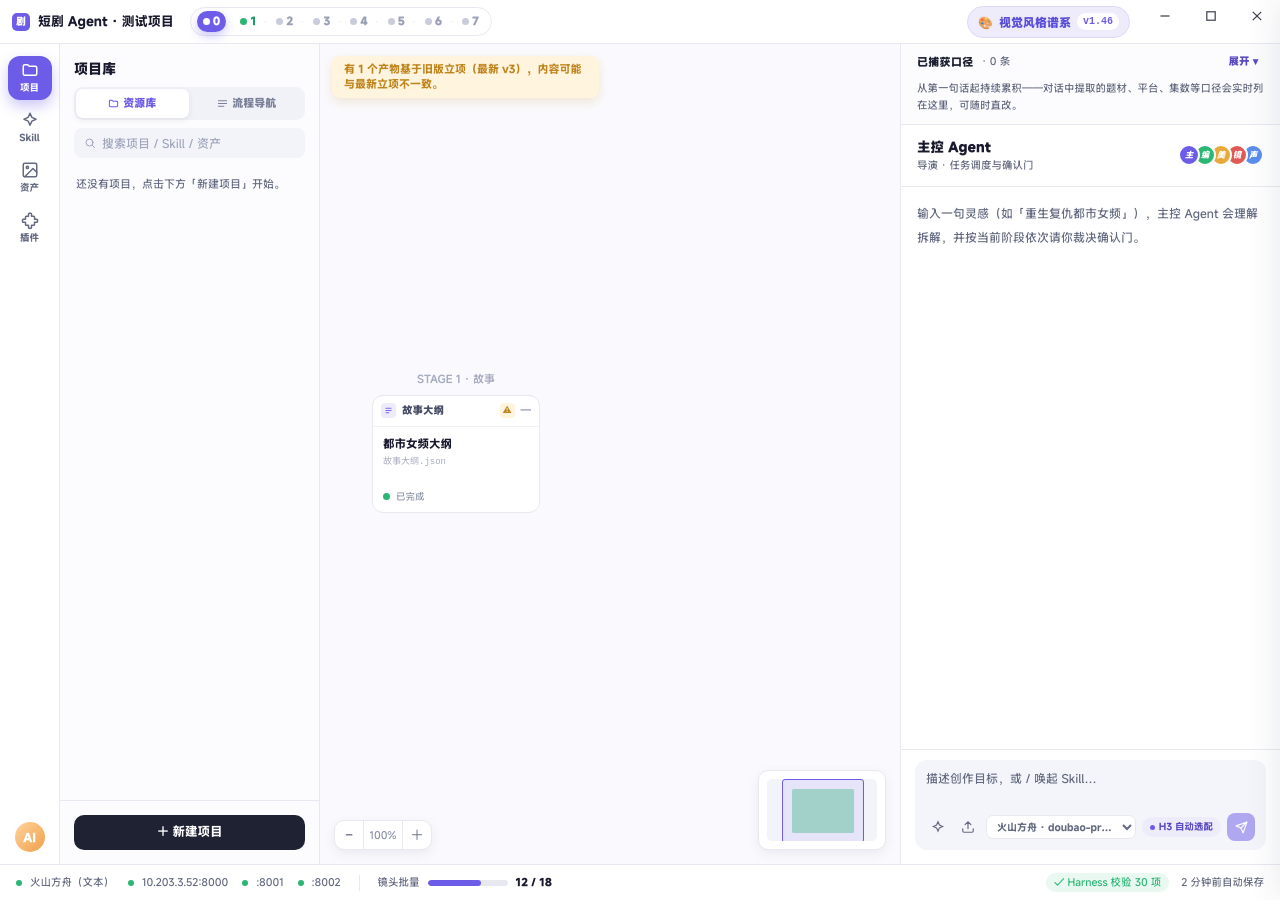
Test case: feature-011 · StudioApp 黄条回读重开面板（T-⑧） › 清单 JSON 损坏 → 降级提示，不崩溃
Expected: the text "都市女频大纲" is shown, [383,436,452,451]
Click the button "故事大纲 ⚠ — 都市女频大纲 故事大纲.json 已完成" at (456, 454), box [372,395,540,513]
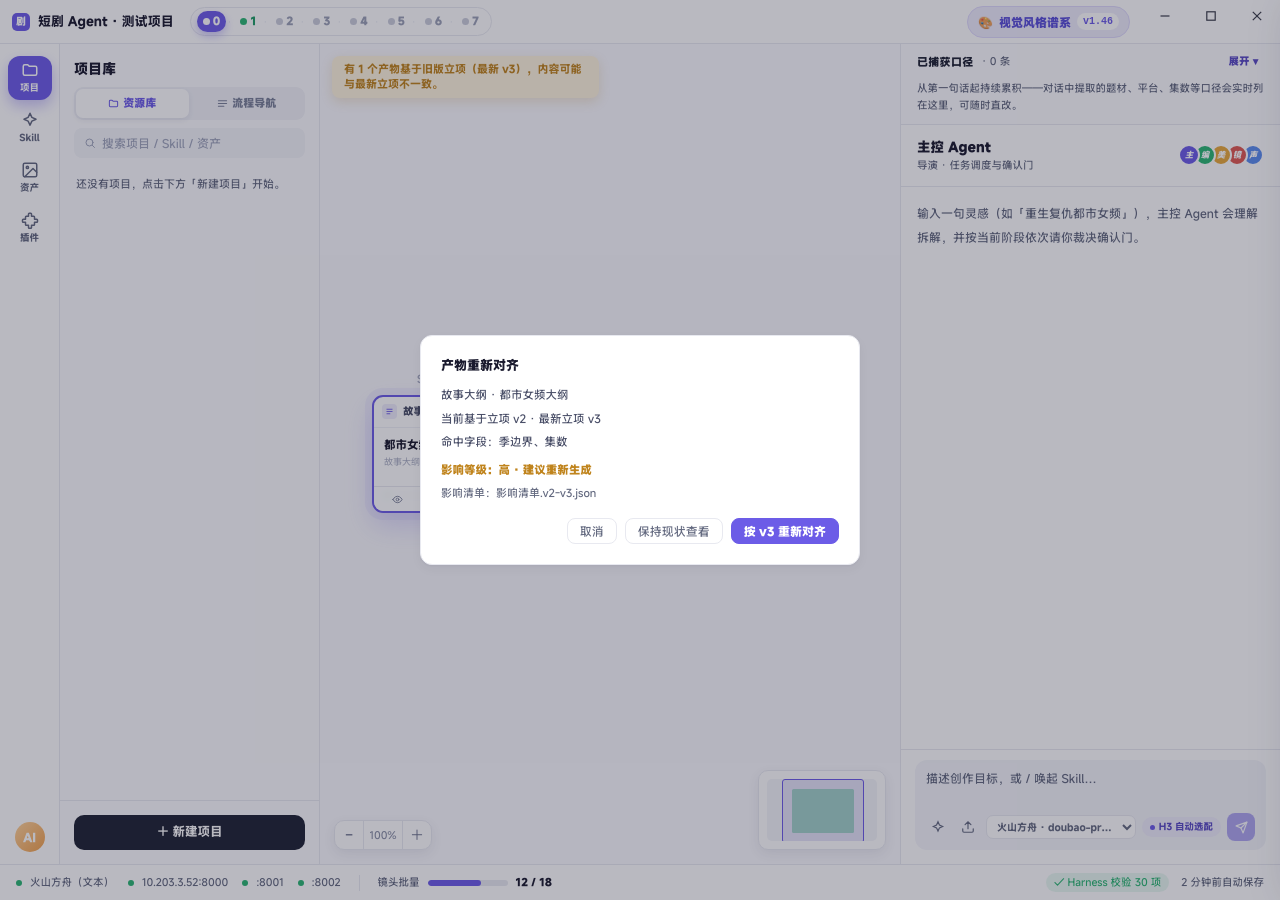
Click the button "保持现状查看" at (674, 531), box [625,518,723,544]
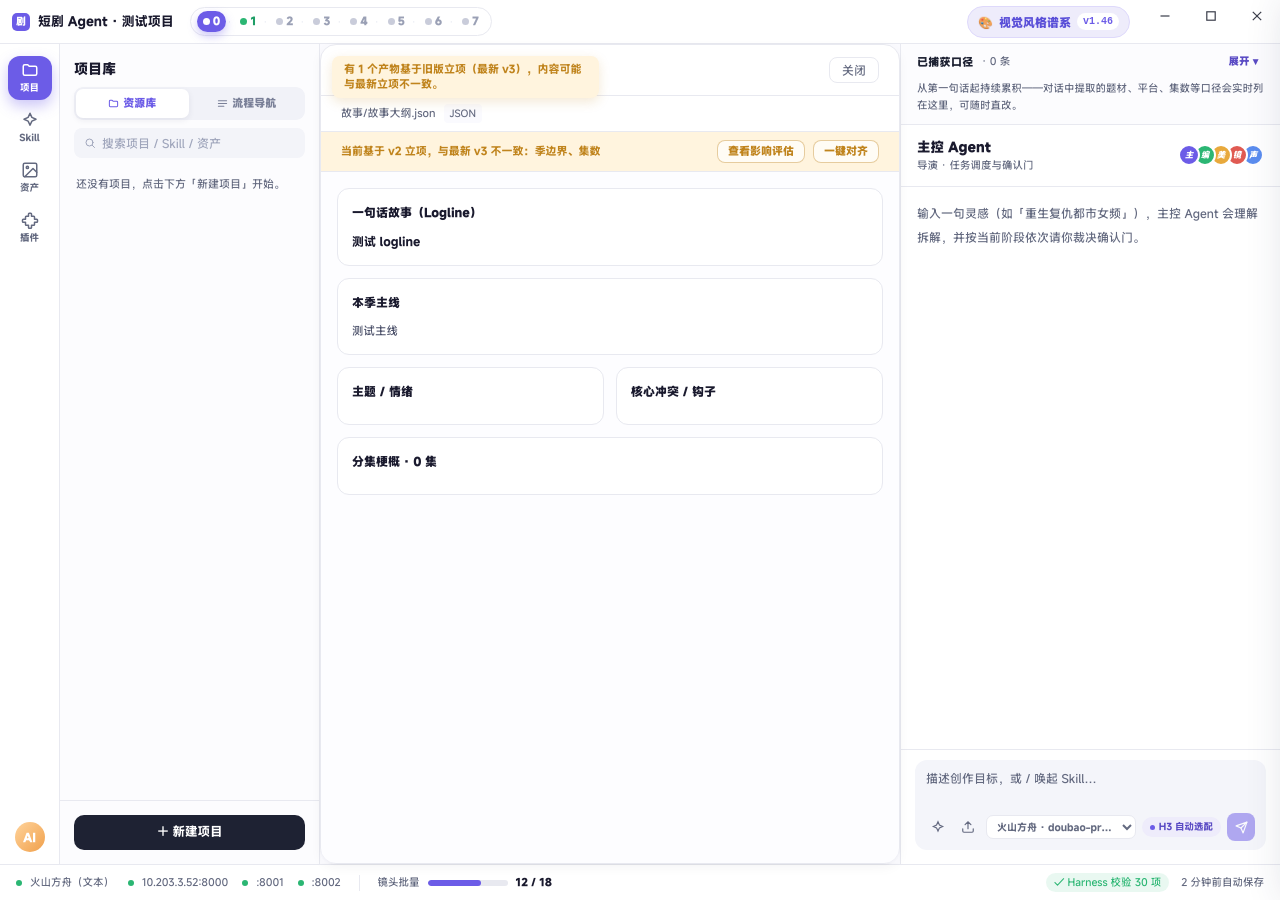
Click the button "查看影响评估" at (761, 151), box [717,140,805,162]
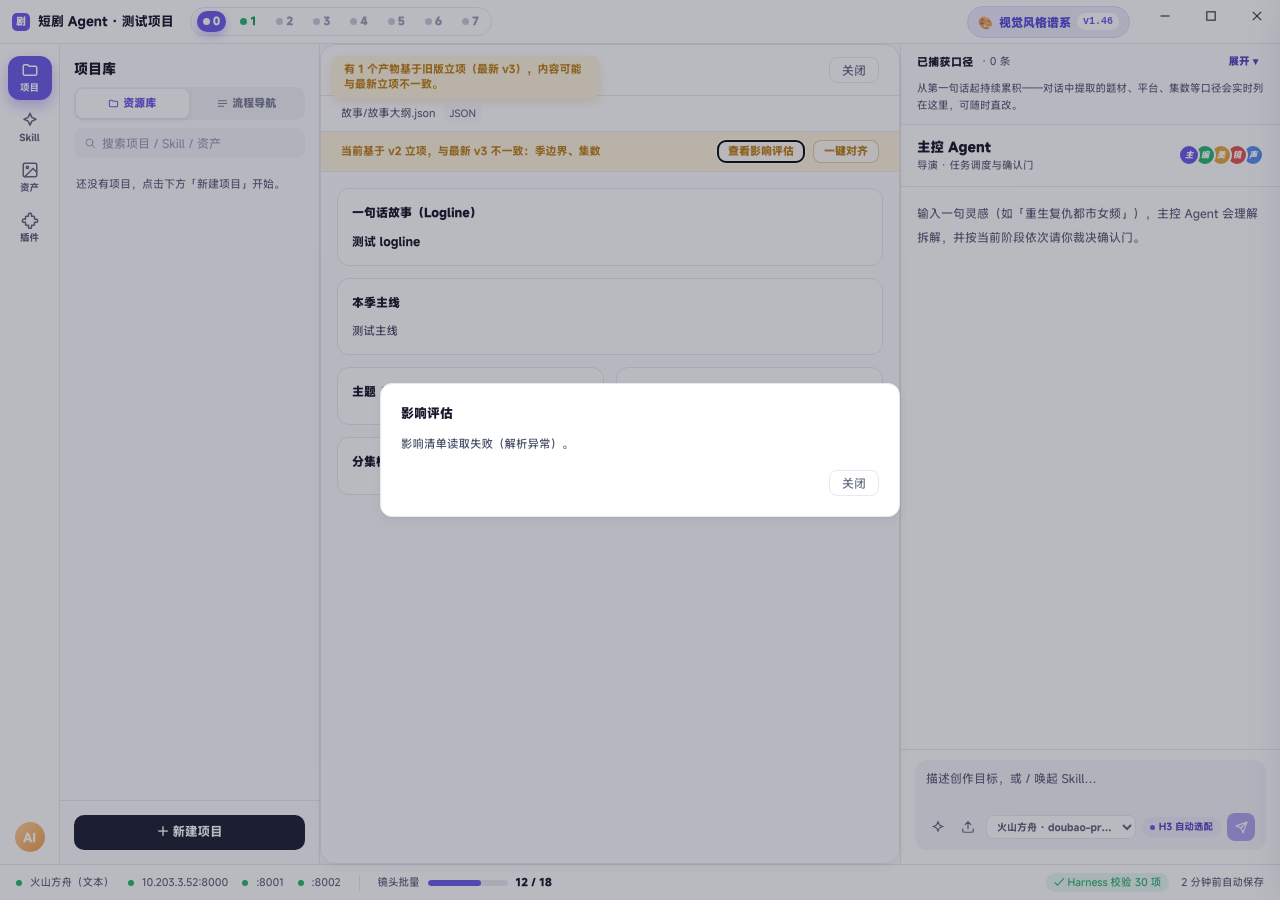
Result: the dialog "影响评估" shows "影响清单读取失败（解析异常）" at [401,436,574,451]
